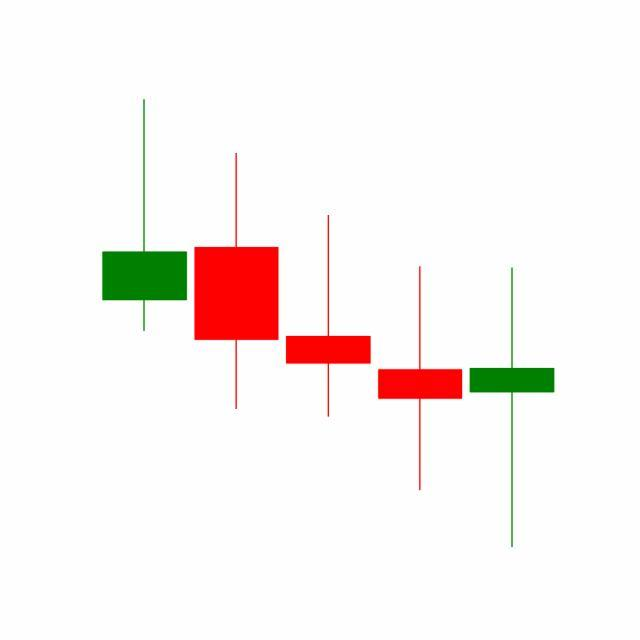Tasuki Gap: (280, 211, 555, 548)
